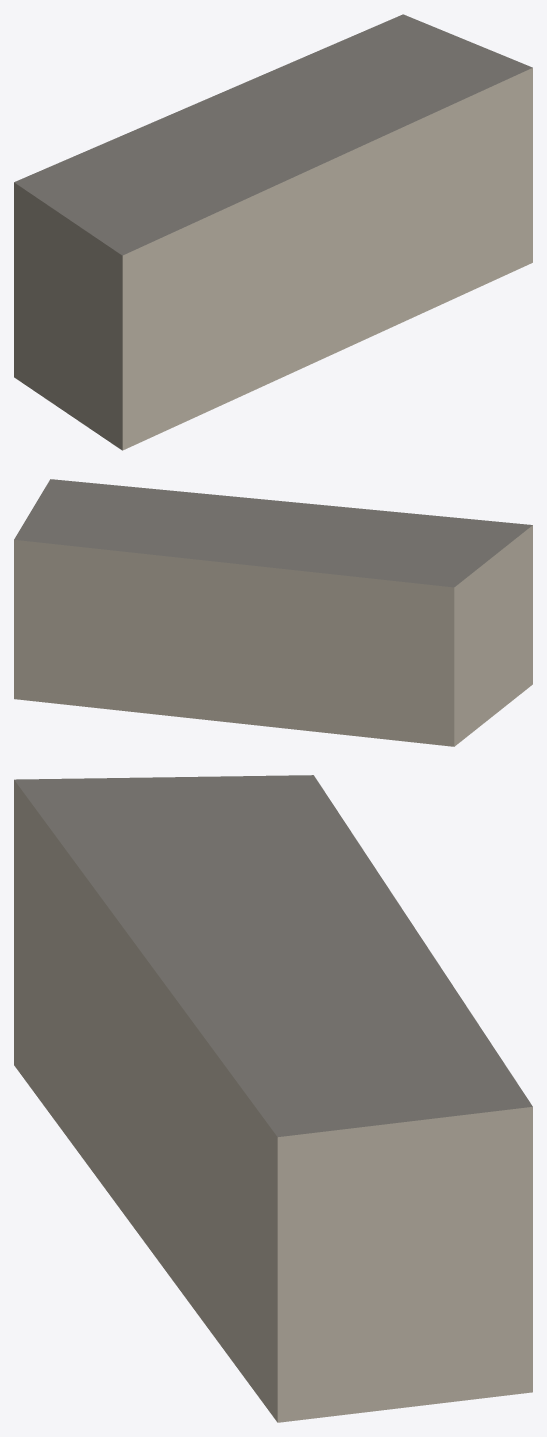
3 views of the same model, one above another, from view 1: azimuth 30°, elevation 25°; view 2: azimuth 150°, elevation 25°; view 3: azimuth 270°, elevation 25° (orthographic). The views are drawn at different scales.
Visible parts, largest first — view 1: HP-w378107124; view 2: HP-w378107124; view 3: HP-w378107124.
Part boxes in pixels (left/top/right/bottom): HP-w378107124: left=14, top=14, right=532, bottom=450; HP-w378107124: left=14, top=479, right=532, bottom=746; HP-w378107124: left=14, top=775, right=532, bottom=1422.
Bounding box in the file's own units: 40.78 × 15 × 24.7.
